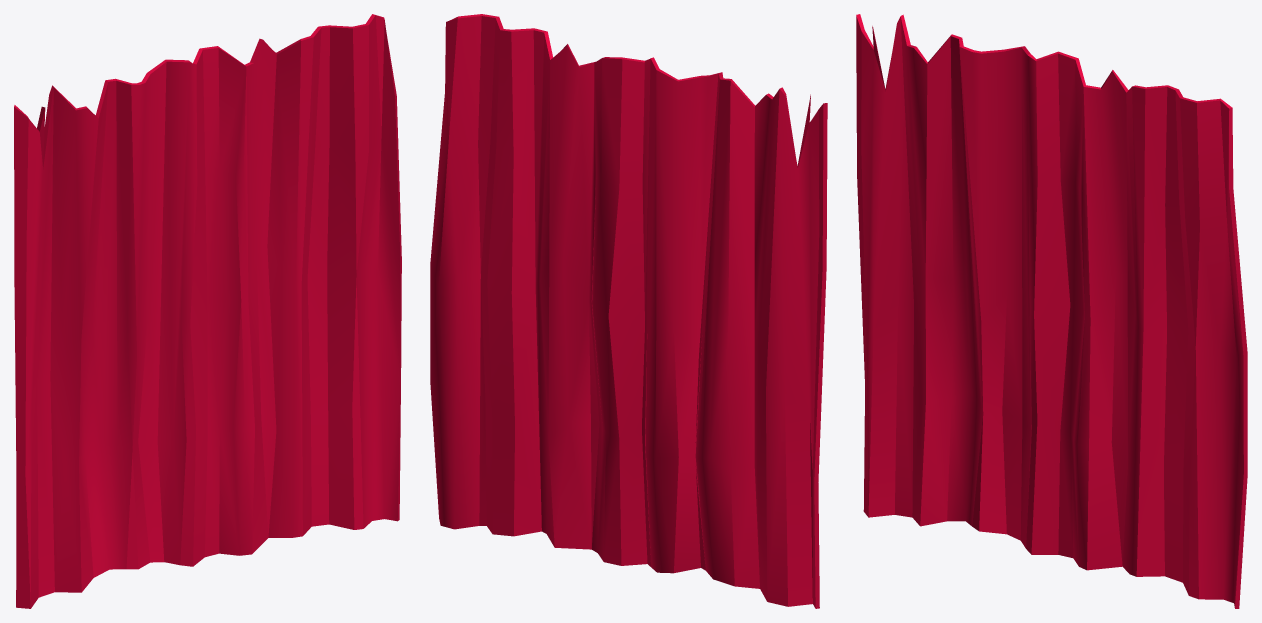
The model's file is panel8.fbx.
3 renders of one model, left to right at view 1: azimuth 30°, elevation 25°; view 2: azimuth 150°, elevation 25°; view 3: azimuth 330°, elevation 25°, orthographic.
Visible parts, largest first — view 1: panel8; view 2: panel8; view 3: panel8.
Part boxes in pixels (x1=…): panel8: x1=14, y1=14, x2=401, y2=608; panel8: x1=430, y1=14, x2=827, y2=608; panel8: x1=856, y1=14, x2=1247, y2=608.
Bounding box in the file's own units: 0.5152 × 0.6478 × 0.0556.
